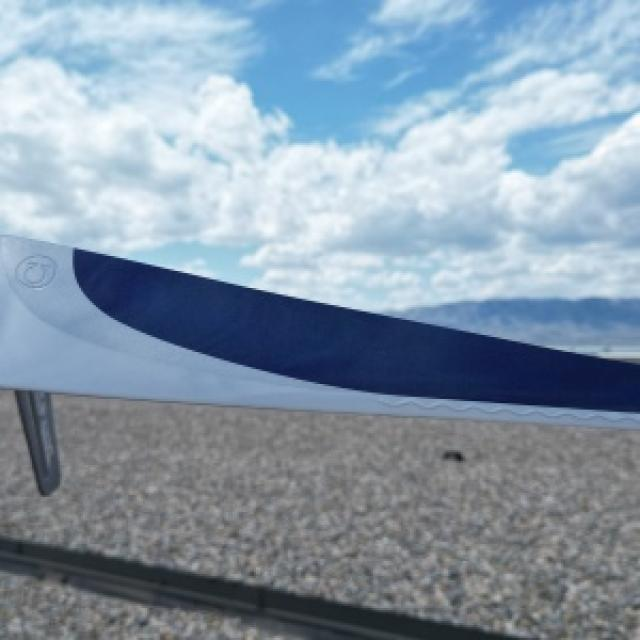healthy: (0, 235, 638, 422)
